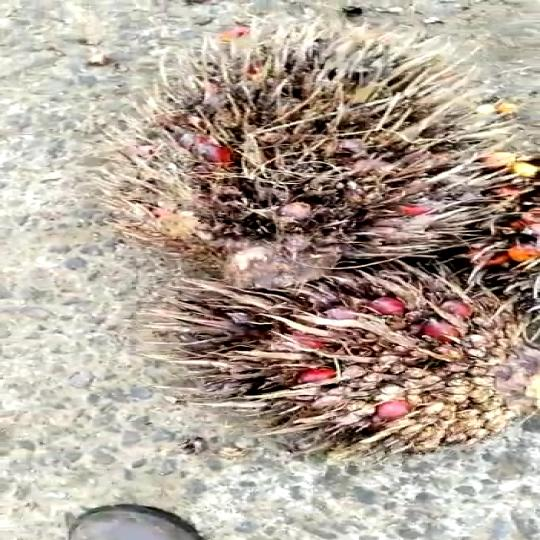terlalu masak: (115, 44, 484, 294), (174, 270, 540, 449)
